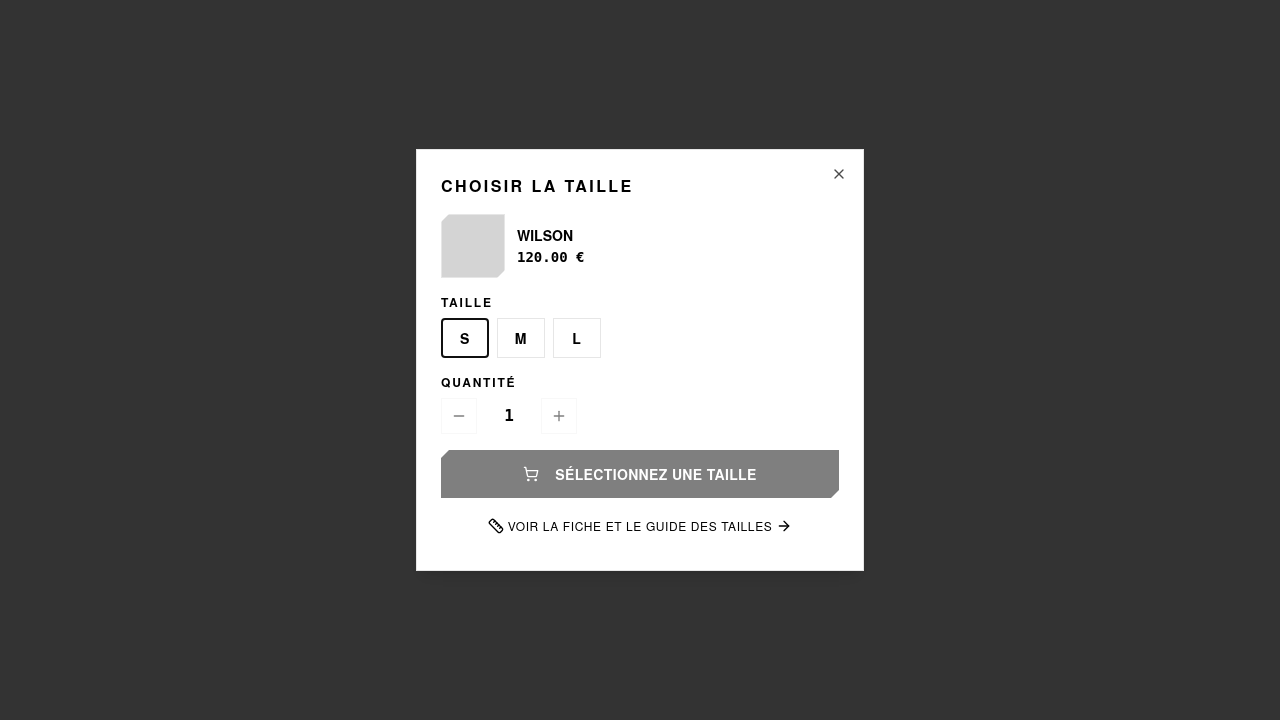
it: QuickAddSizeDialog › plafonne la quantité au stock de la taille choisie
Click the button named "Taille M": (521, 338) [497, 318, 545, 358]
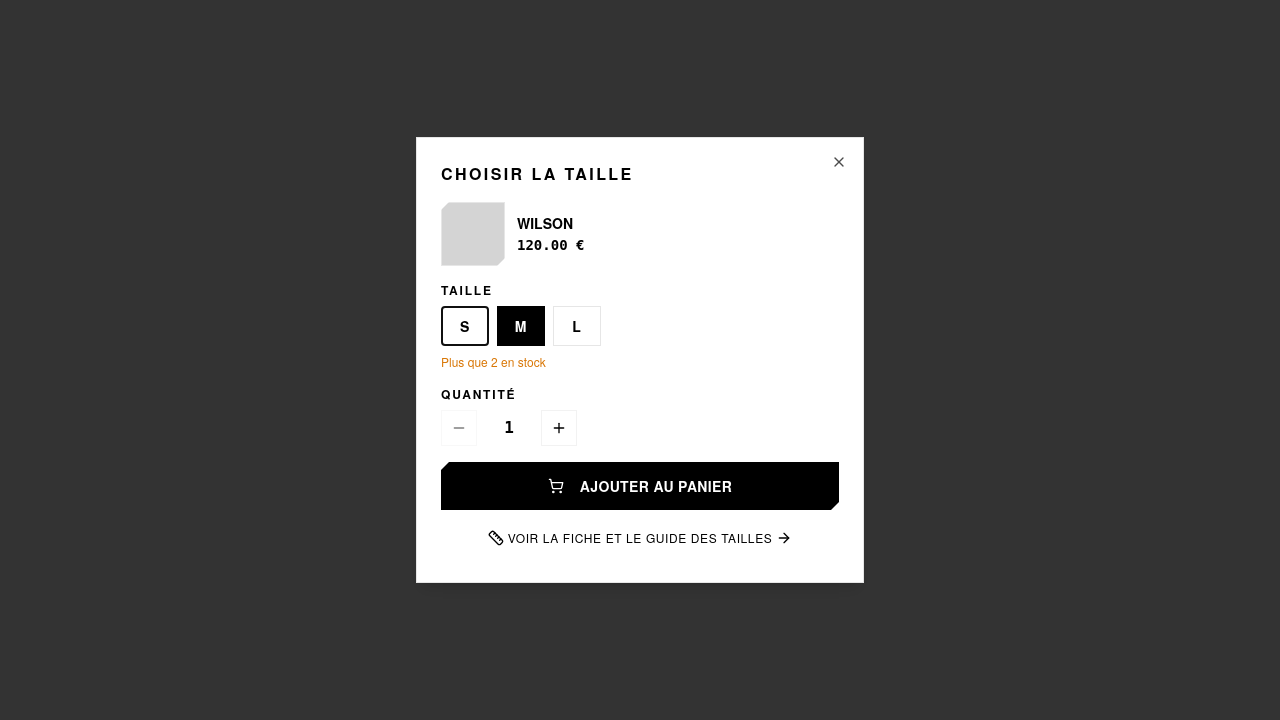
Click the button named "Augmenter la quantité": (559, 428) [541, 410, 577, 446]
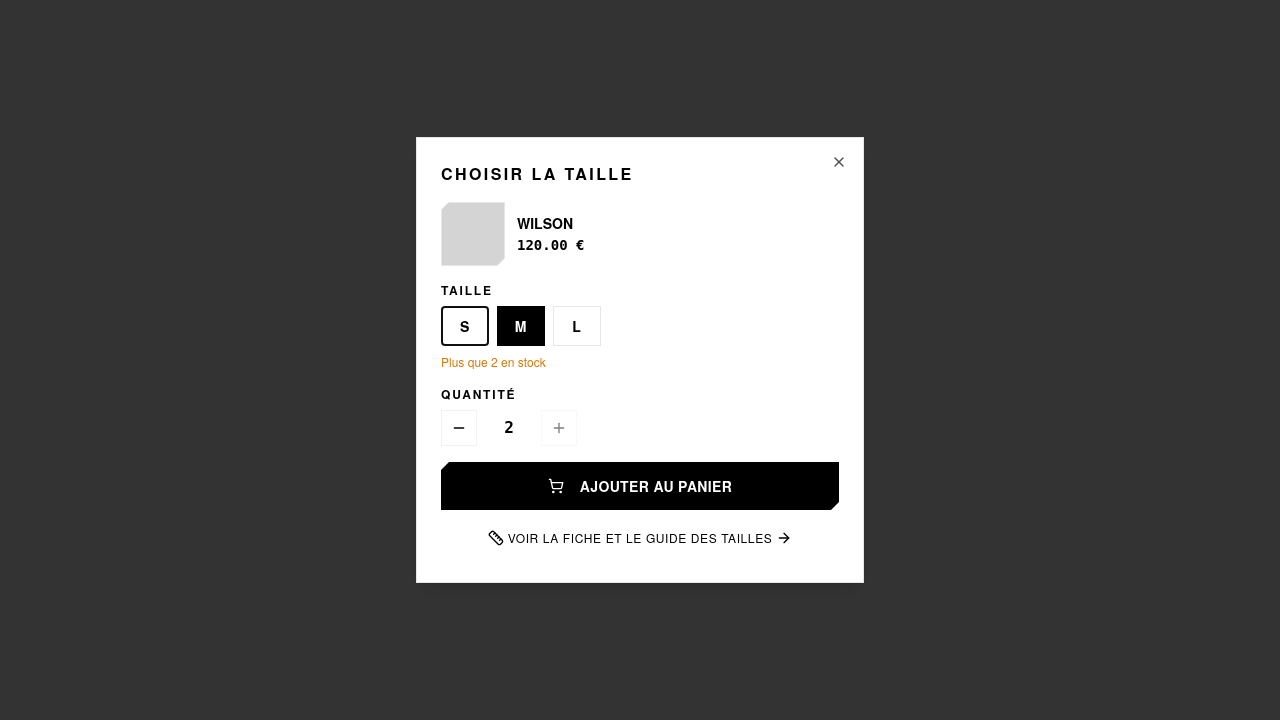
Check: the text "2" is shown, box [504, 418, 514, 437]
Check: the button named "Augmenter la quantité" is disabled, box [541, 410, 577, 446]
